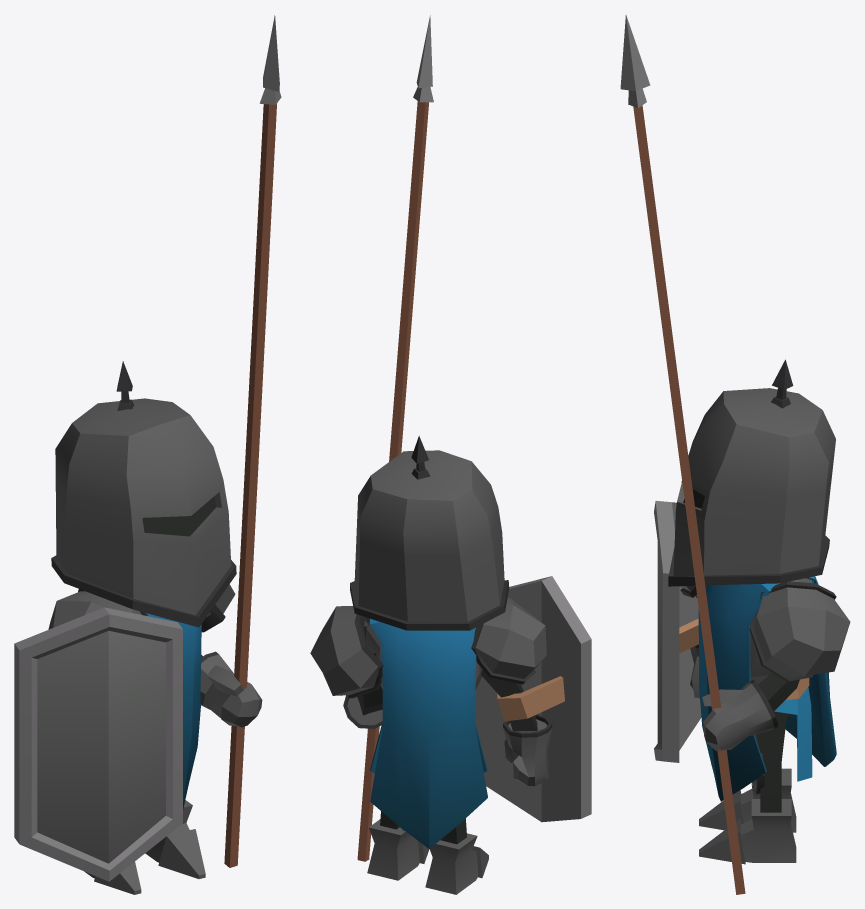
File: Warrior_12.fbx
3 views of the same model, side by side, from view 1: azimuth 30°, elevation 25°; view 2: azimuth 150°, elevation 25°; view 3: azimuth 270°, elevation 25° (orthographic). The views are drawn at different scales.
Parts seen in each view (by area): view 1: Warrior_12; view 2: Warrior_12; view 3: Warrior_12.
Boxes of the visible parts, x1,y1,x2,y2 form: Warrior_12: (14, 15, 281, 894); Warrior_12: (310, 15, 591, 894); Warrior_12: (620, 15, 850, 894).
Bounding box in the file's own units: 71.67 × 243 × 58.14.
